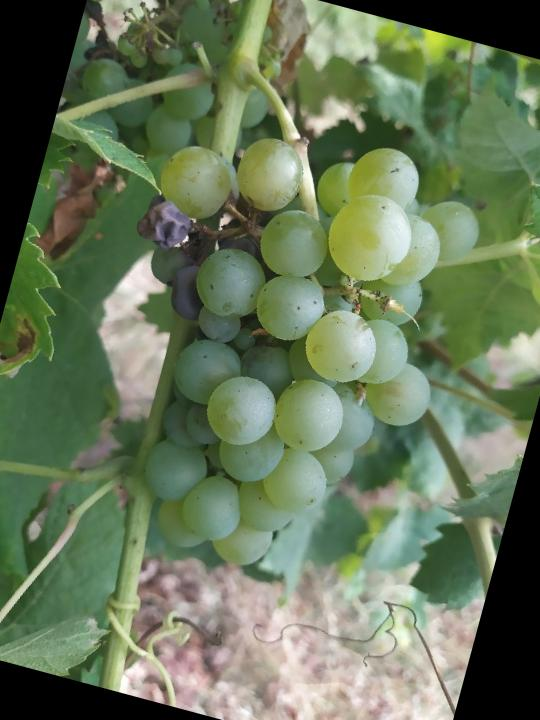grape: (64, 88, 498, 607)
